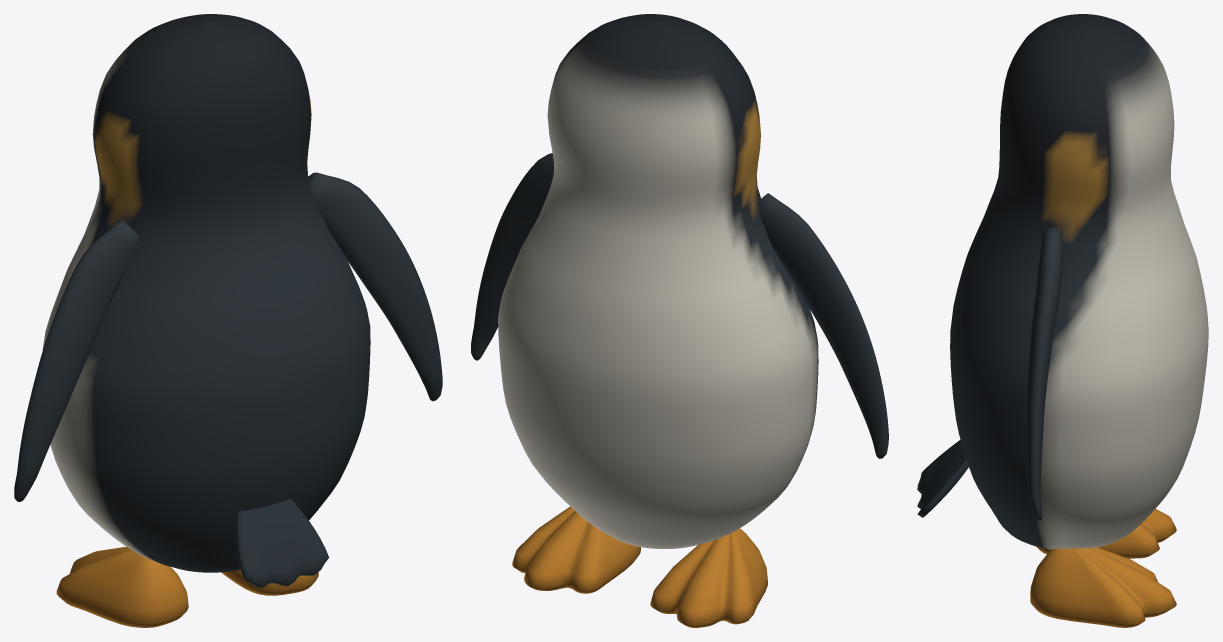
The model's file is candidate.glb.
The picture shows the model from 3 angles, left to right: view 1: azimuth 30°, elevation 25°; view 2: azimuth 150°, elevation 25°; view 3: azimuth 270°, elevation 25°; orthographic projection. The views are drawn at different scales.
Visible parts, largest first — view 1: RearBlockout; view 2: RearBlockout; view 3: RearBlockout.
Boxes of the visible parts, x1,y1,x2,y2 form: RearBlockout: [14, 14, 442, 627]; RearBlockout: [471, 14, 888, 627]; RearBlockout: [917, 14, 1208, 627].
Bounding box in the file's own units: 1.35 × 1.72 × 0.8233.
